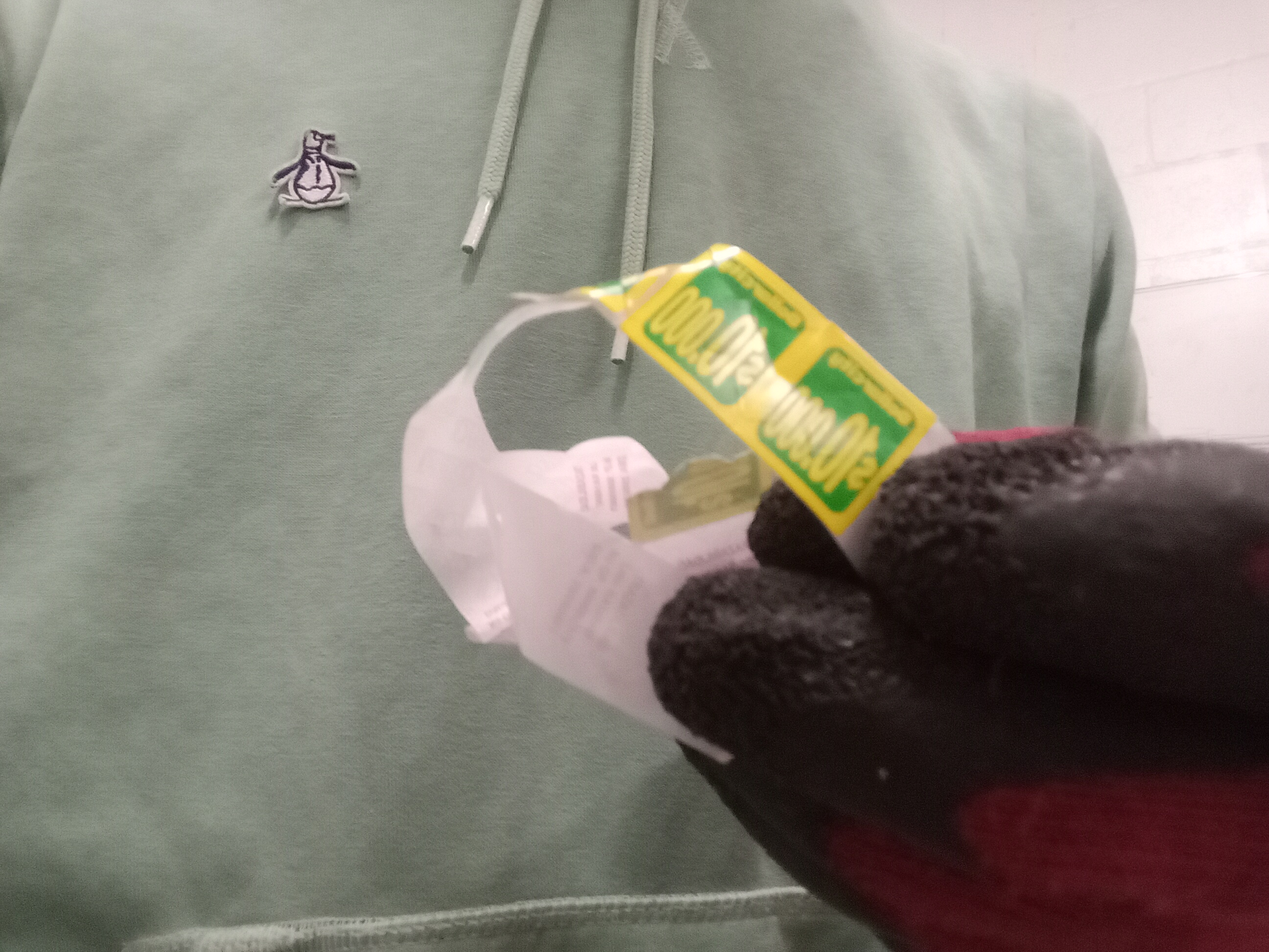Ordinario: (398, 242, 961, 761)
